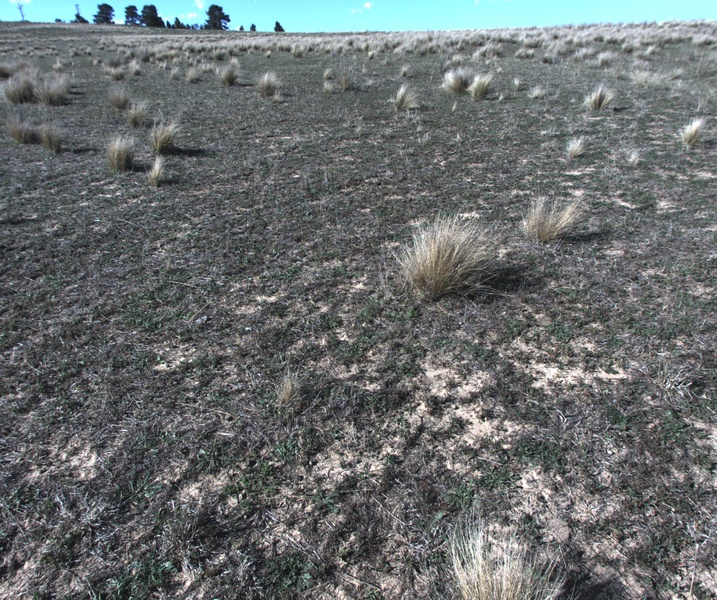st: (445, 518, 572, 600), (398, 217, 490, 317), (513, 190, 582, 254), (152, 116, 187, 157), (104, 134, 134, 176), (443, 67, 478, 101), (677, 112, 708, 147), (390, 80, 423, 112), (259, 72, 287, 104), (583, 83, 611, 114), (469, 70, 498, 99), (128, 101, 156, 128), (563, 136, 587, 164), (146, 157, 168, 187), (221, 66, 241, 88), (183, 66, 205, 85), (629, 151, 646, 175), (512, 45, 534, 62), (317, 64, 337, 80), (321, 79, 338, 97), (541, 53, 559, 67), (288, 43, 304, 58), (398, 64, 413, 79), (229, 53, 240, 67)
